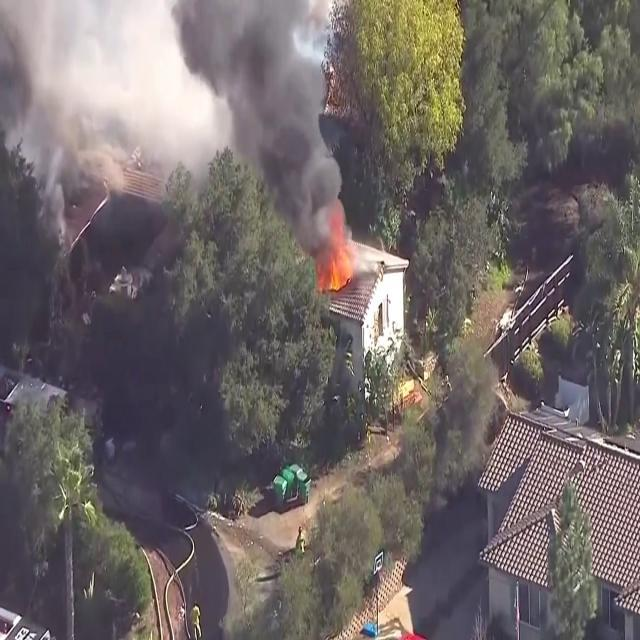Fire: (324, 234, 356, 292)
Smoke: (178, 0, 352, 251), (0, 0, 204, 187)
